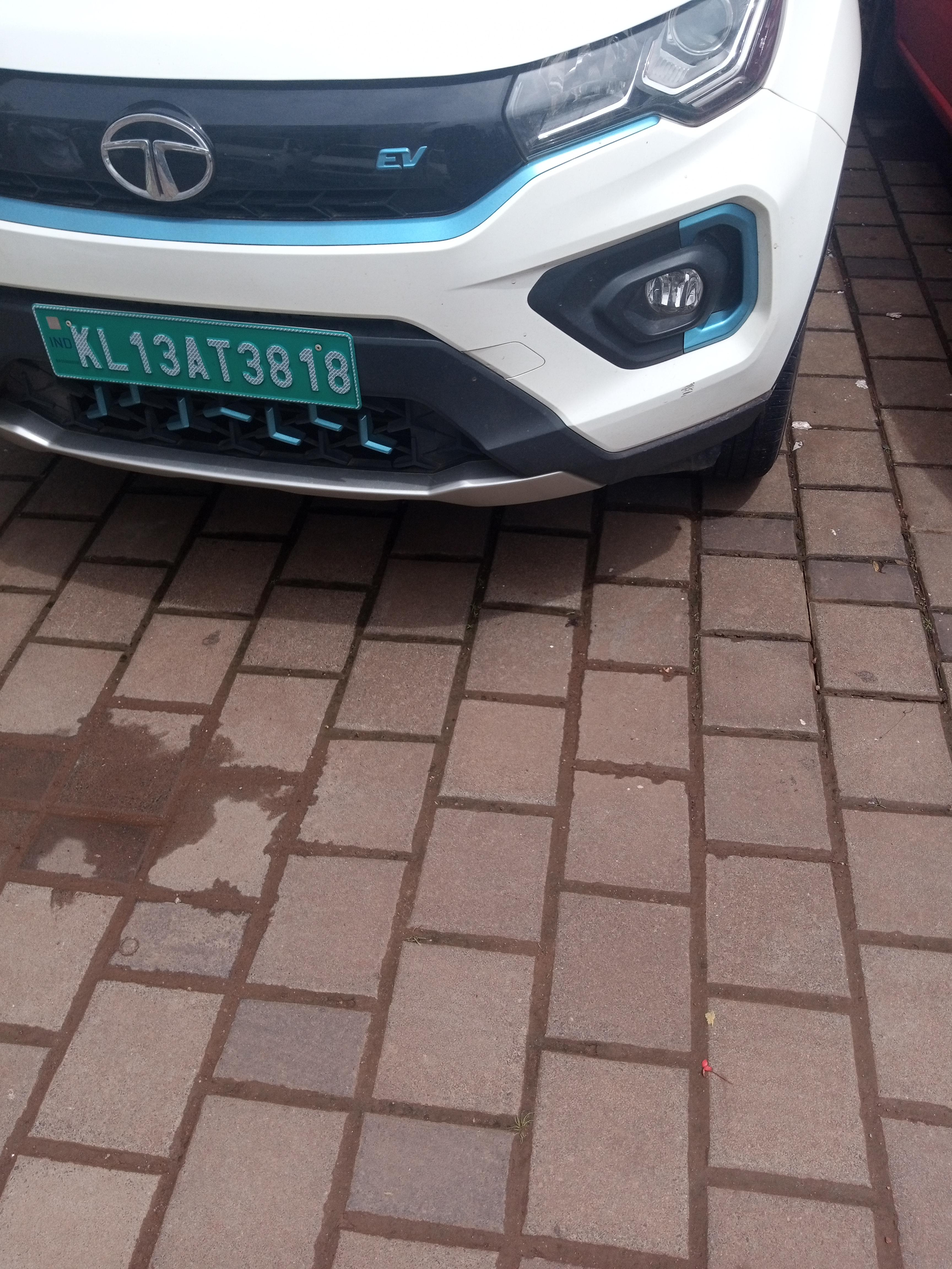green license plate: (30, 299, 359, 413)
